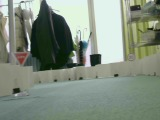stop: (11, 51, 30, 66)
